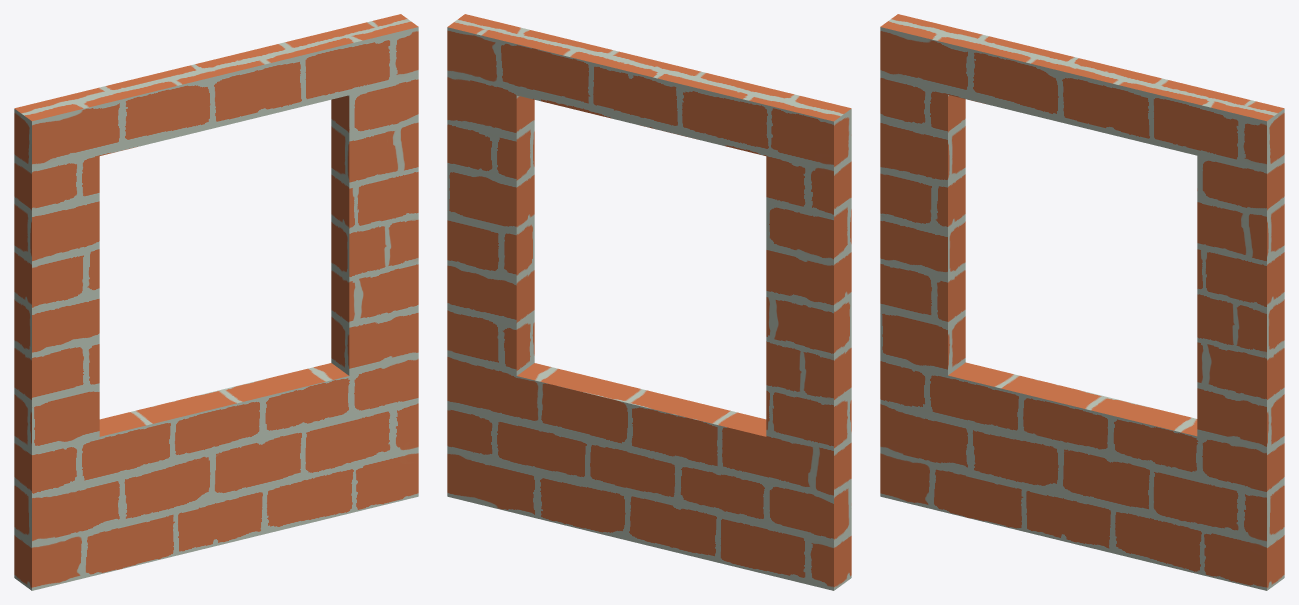
File: Brick_Wall_Win_02.fbx
The picture shows the model from 3 angles, left to right: view 1: azimuth 30°, elevation 25°; view 2: azimuth 150°, elevation 25°; view 3: azimuth 330°, elevation 25°; orthographic projection.
Visible parts, largest first — view 1: Brick_Wall_Win_02; view 2: Brick_Wall_Win_02; view 3: Brick_Wall_Win_02.
Boxes of the visible parts, bbox=[...] form: Brick_Wall_Win_02: bbox=[14, 14, 418, 590]; Brick_Wall_Win_02: bbox=[447, 14, 851, 590]; Brick_Wall_Win_02: bbox=[880, 14, 1284, 590].
Bounding box in the file's own units: 250 × 290 × 20.
